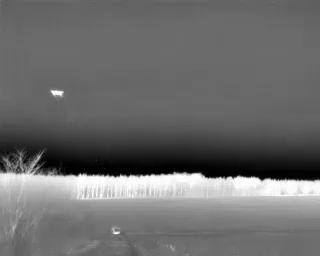DRONE: (47, 85, 68, 103)
